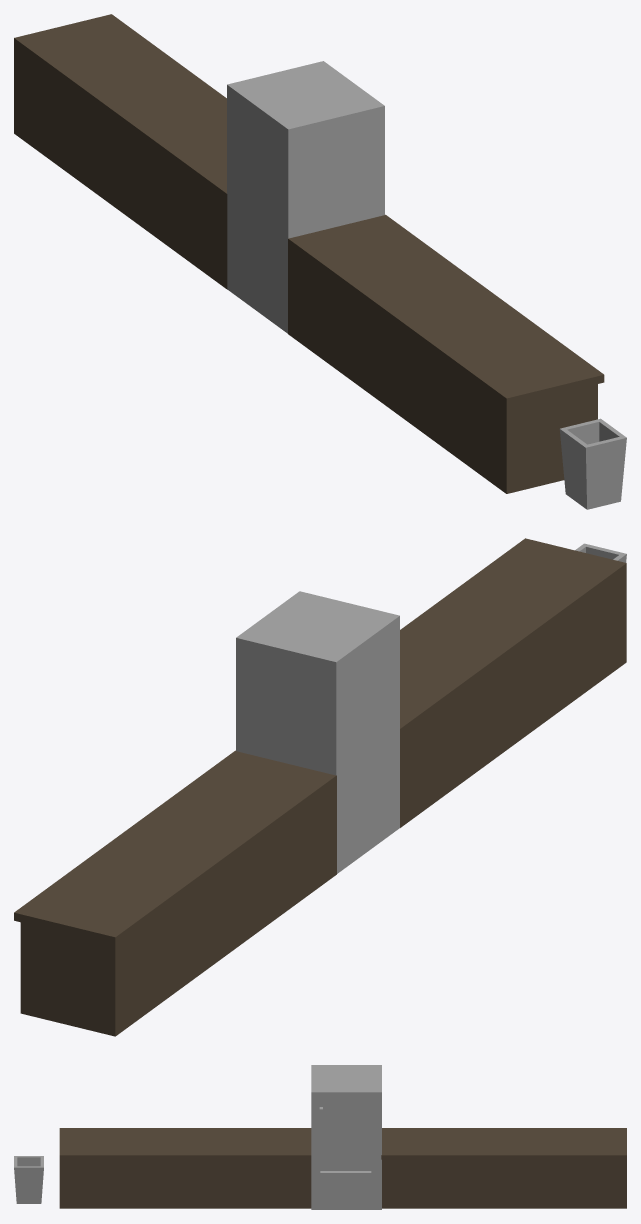
File: Kitchen_Counter2.fbx
The picture shows the model from 3 angles, top to bottom: view 1: azimuth 30°, elevation 25°; view 2: azimuth 150°, elevation 25°; view 3: azimuth 270°, elevation 25°; orthographic projection. The views are drawn at different scales.
Parts seen in each view (by area): view 1: polySurface57; view 2: polySurface57; view 3: polySurface57.
Boxes of the visible parts, x1,y1,x2,y2 form: polySurface57: (14, 14, 626, 509); polySurface57: (14, 538, 626, 1036); polySurface57: (14, 1065, 626, 1209).
Size of the model in its own units: 1.31 by 2.45 by 11.55.
